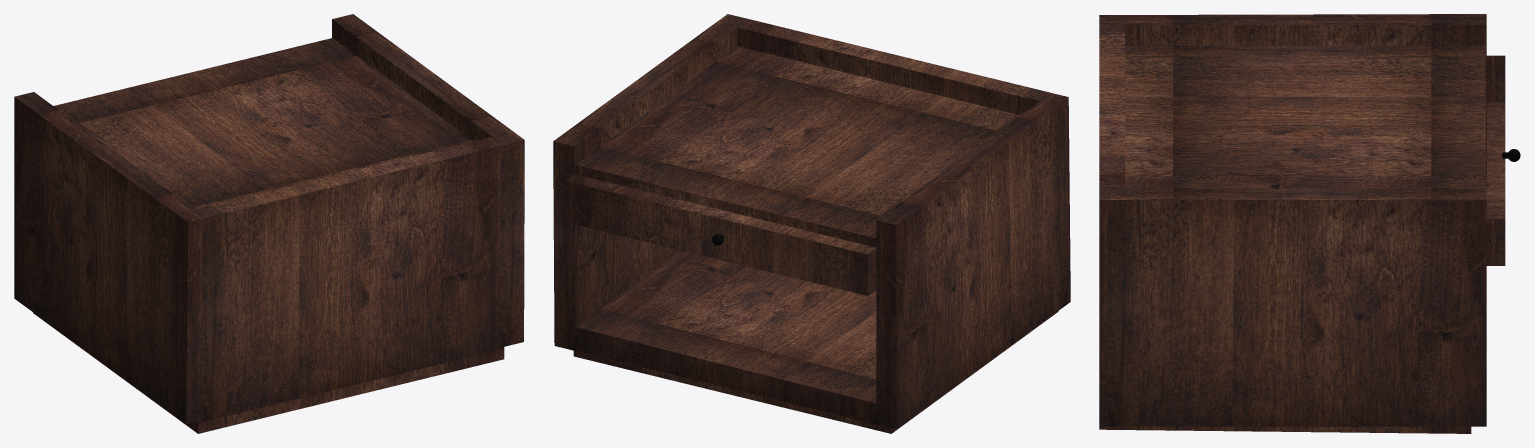
The model's file is mesa de luz (2).fbx.
3 renders of one model, left to right at view 1: azimuth 30°, elevation 25°; view 2: azimuth 150°, elevation 25°; view 3: azimuth 270°, elevation 25°, orthographic. The views are drawn at different scales.
Visible parts, largest first — view 1: Cube; view 2: Cube; view 3: Cube.
Part boxes in pixels (x1,y1,x2,y2): Cube: (14, 14, 524, 433); Cube: (553, 14, 1070, 433); Cube: (1099, 14, 1505, 433).
Size of the model in its own units: 43.26 by 26.11 by 41.34.
2 materials, 1 textured.
